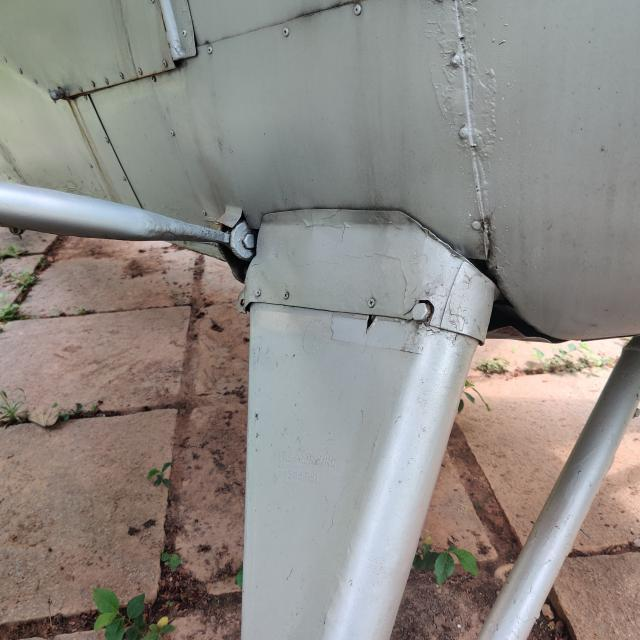Crack: (367, 315, 377, 330)
